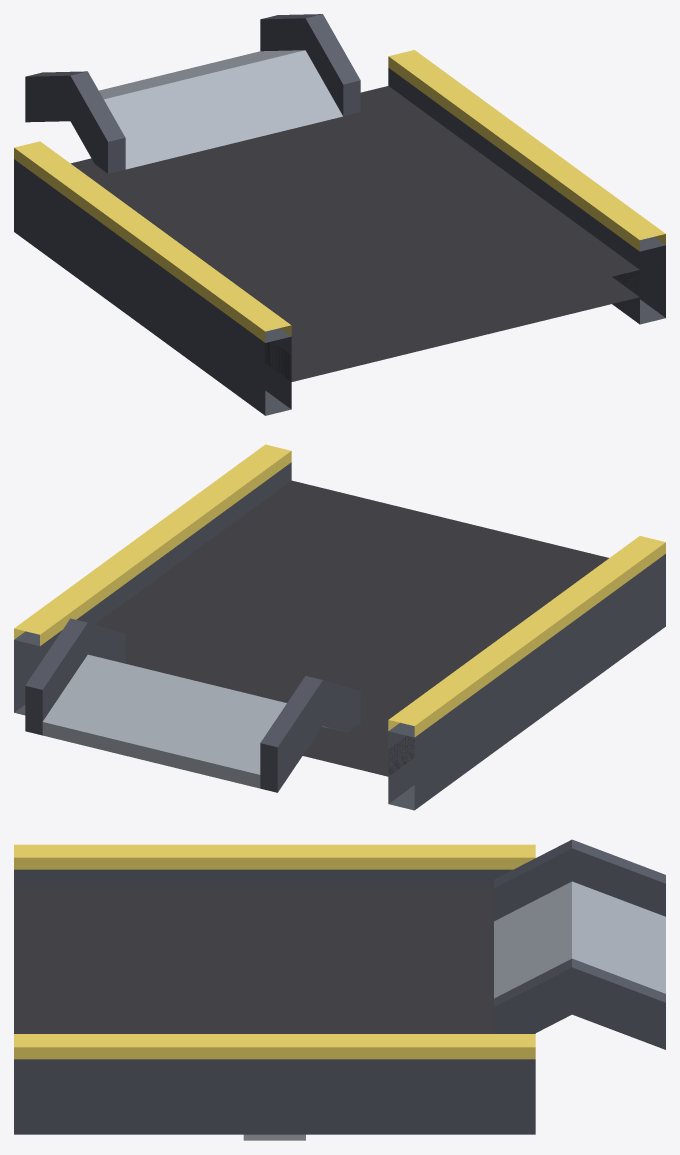
Rendered from esteira_juncao.glb.
3 renders of one model, top to bottom at view 1: azimuth 30°, elevation 25°; view 2: azimuth 150°, elevation 25°; view 3: azimuth 270°, elevation 25°, orthographic. The views are drawn at different scales.
Parts seen in each view (by area): view 1: esteira_juncao; view 2: esteira_juncao; view 3: esteira_juncao.
Boxes of the visible parts, <box> form: esteira_juncao: <box>14,14,665,415</box>; esteira_juncao: <box>14,444,665,810</box>; esteira_juncao: <box>14,839,665,1140</box>.
Size of the model in its own units: 0.92 by 0.315 by 1.25.
